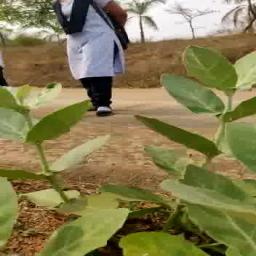Calotropis: (172, 179, 256, 204), (187, 49, 236, 88), (188, 205, 256, 231), (170, 76, 217, 108), (128, 234, 192, 256), (225, 122, 255, 161), (45, 230, 108, 247), (23, 120, 71, 141), (154, 146, 188, 175), (59, 140, 90, 164), (6, 87, 38, 110), (226, 232, 256, 256), (77, 195, 120, 211), (186, 134, 217, 155), (122, 183, 158, 201), (83, 216, 127, 229), (234, 101, 255, 128), (0, 177, 8, 245), (6, 168, 42, 182), (4, 118, 22, 141), (192, 163, 218, 178), (241, 60, 253, 92), (37, 192, 61, 207), (65, 104, 87, 117), (169, 124, 182, 140), (140, 119, 160, 126)
